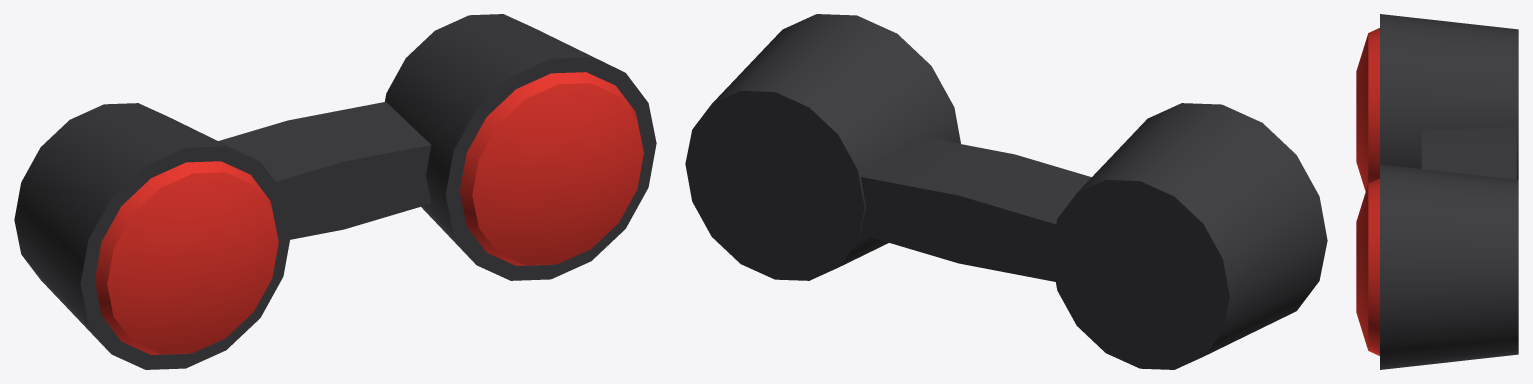
The model's file is twin.glb.
3 renders of one model, left to right at view 1: azimuth 30°, elevation 25°; view 2: azimuth 150°, elevation 25°; view 3: azimuth 270°, elevation 25°, orthographic. The views are drawn at different scales.
Visible parts, largest first — view 1: lod0; view 2: lod0; view 3: lod0.
Boxes of the visible parts, x1,y1,x2,y2 form: lod0: [14, 14, 656, 369]; lod0: [685, 14, 1327, 369]; lod0: [1356, 14, 1518, 369].
Size of what is drawn, in the model's own units: 0.142 by 0.052 by 0.041.
